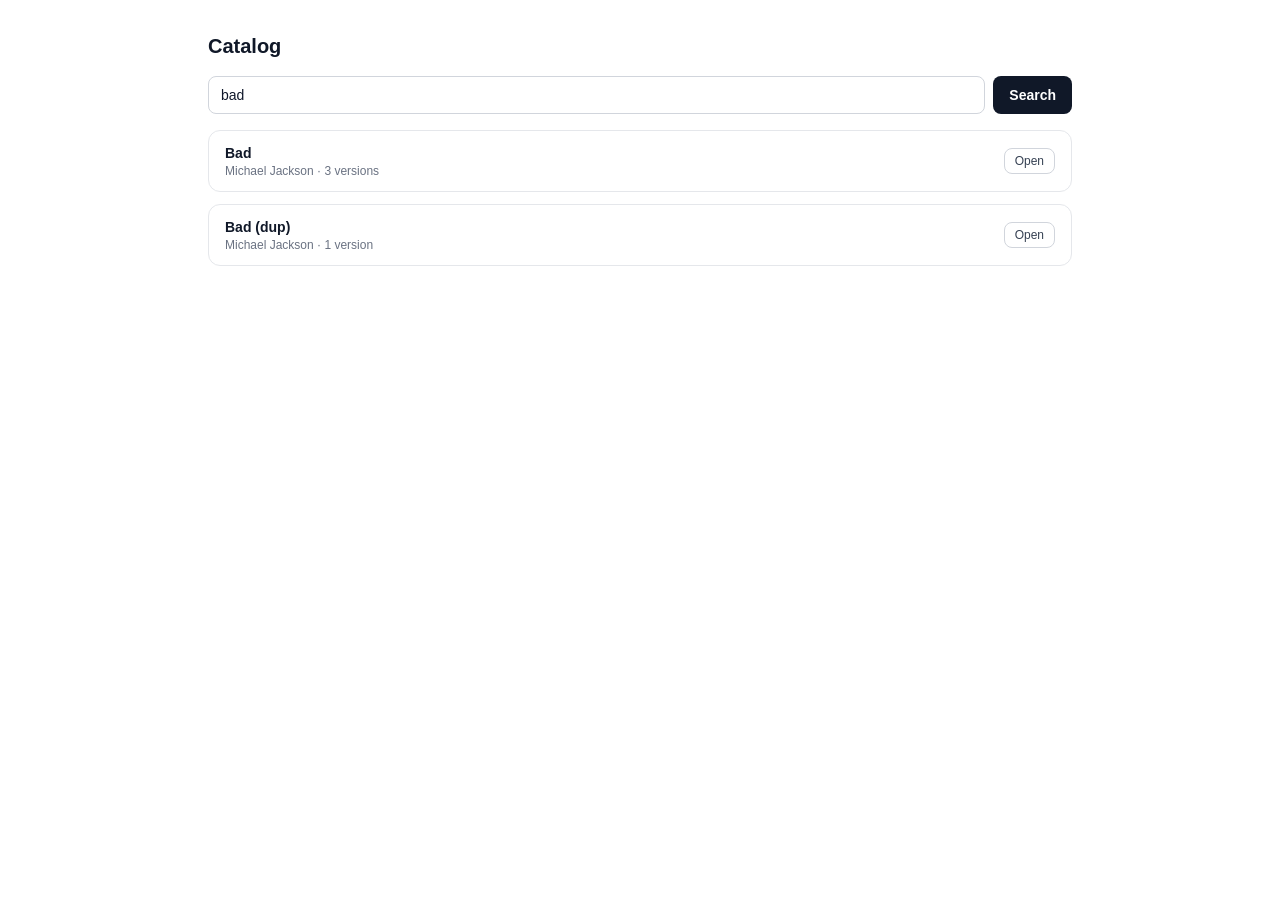
Scenario: delete › confirms with the zero counts, then deletes and refreshes
Click the button "Open" in the row of "versions": (1029, 161) [1004,148,1055,174]
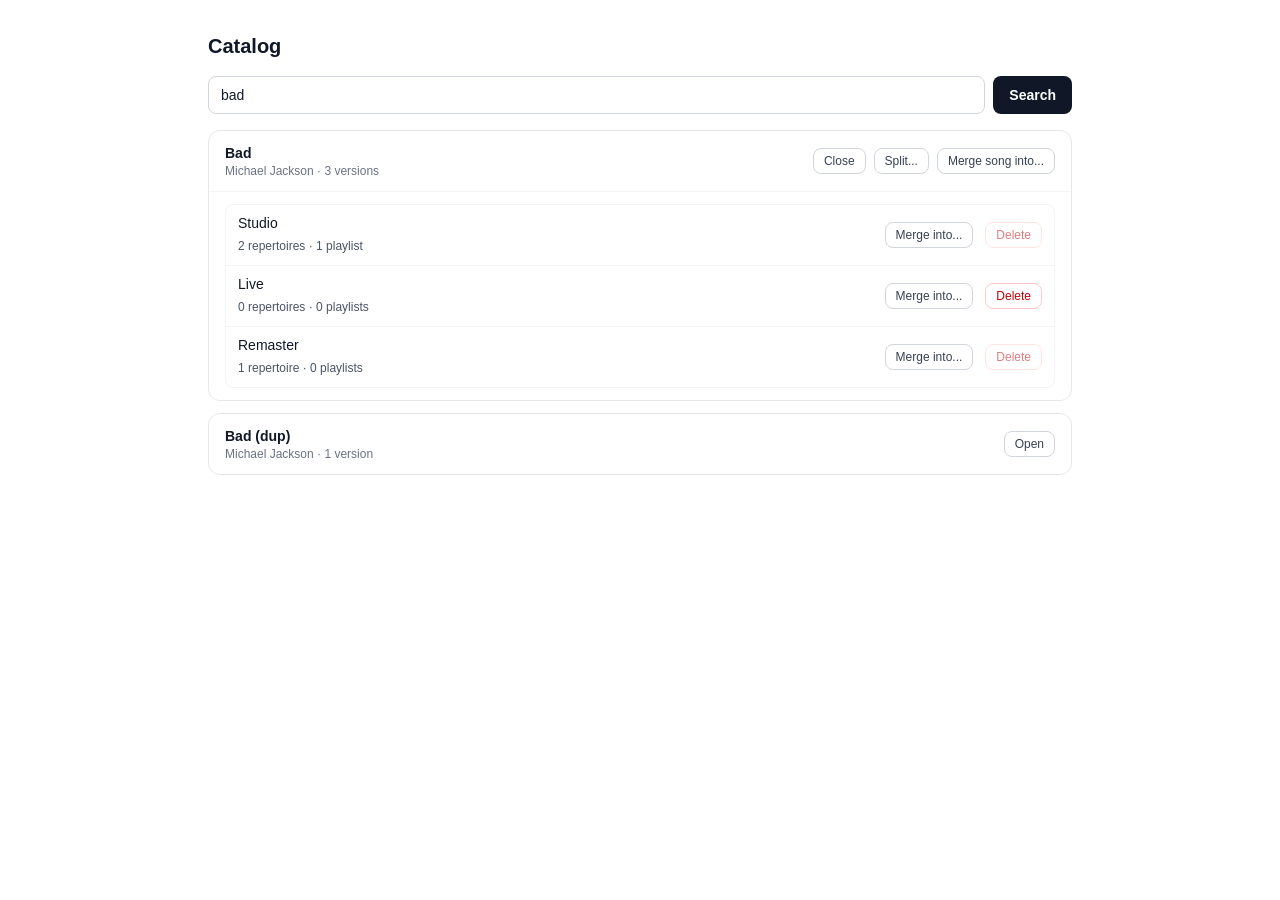
Click the button with aria-label "Delete Live": (1014, 296) [985,283,1042,309]
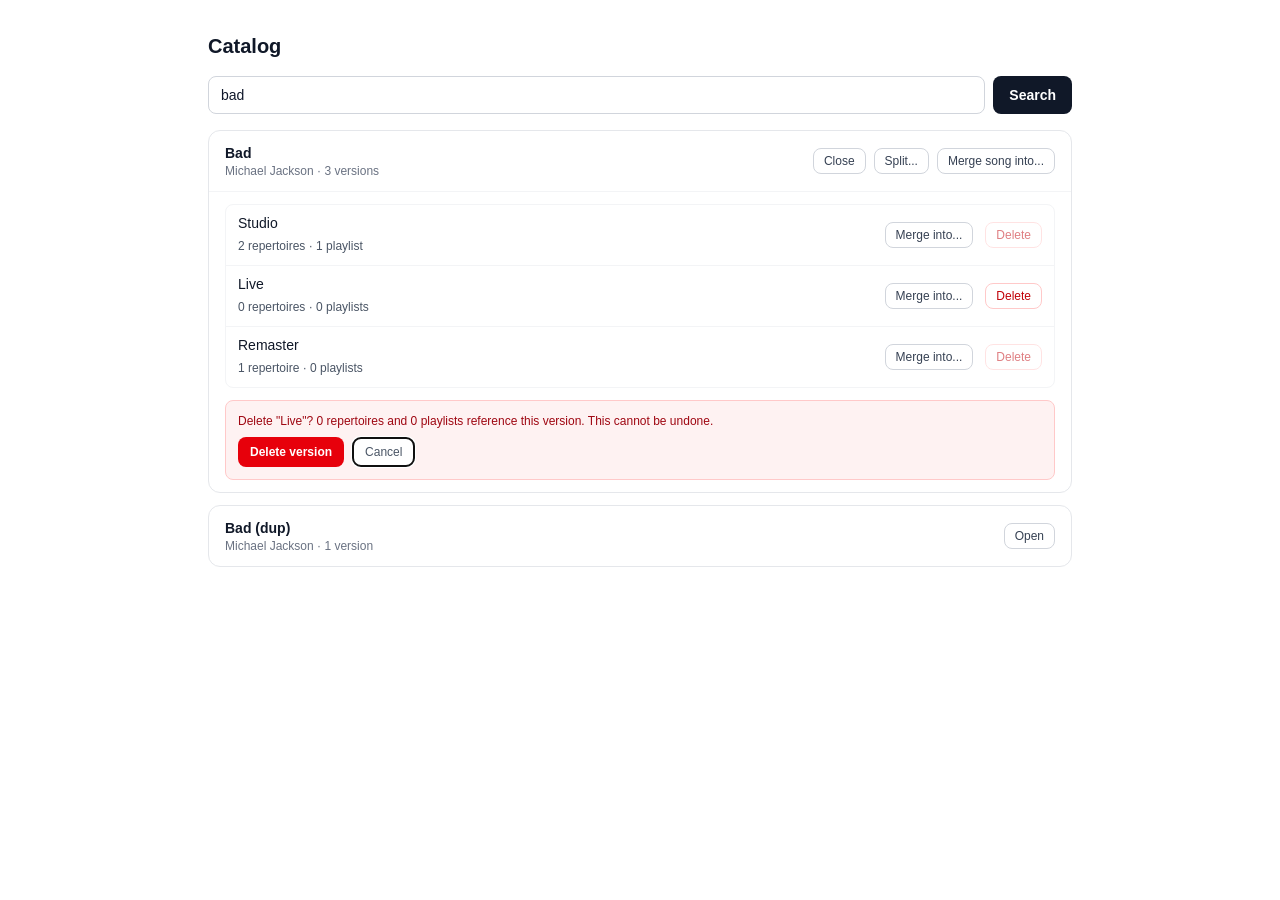
Expected: the dialog shows "0 repertoires and 0 playlists reference this version", [238,414,713,428]
Click the button "Delete version": (291, 452) [238,437,344,467]
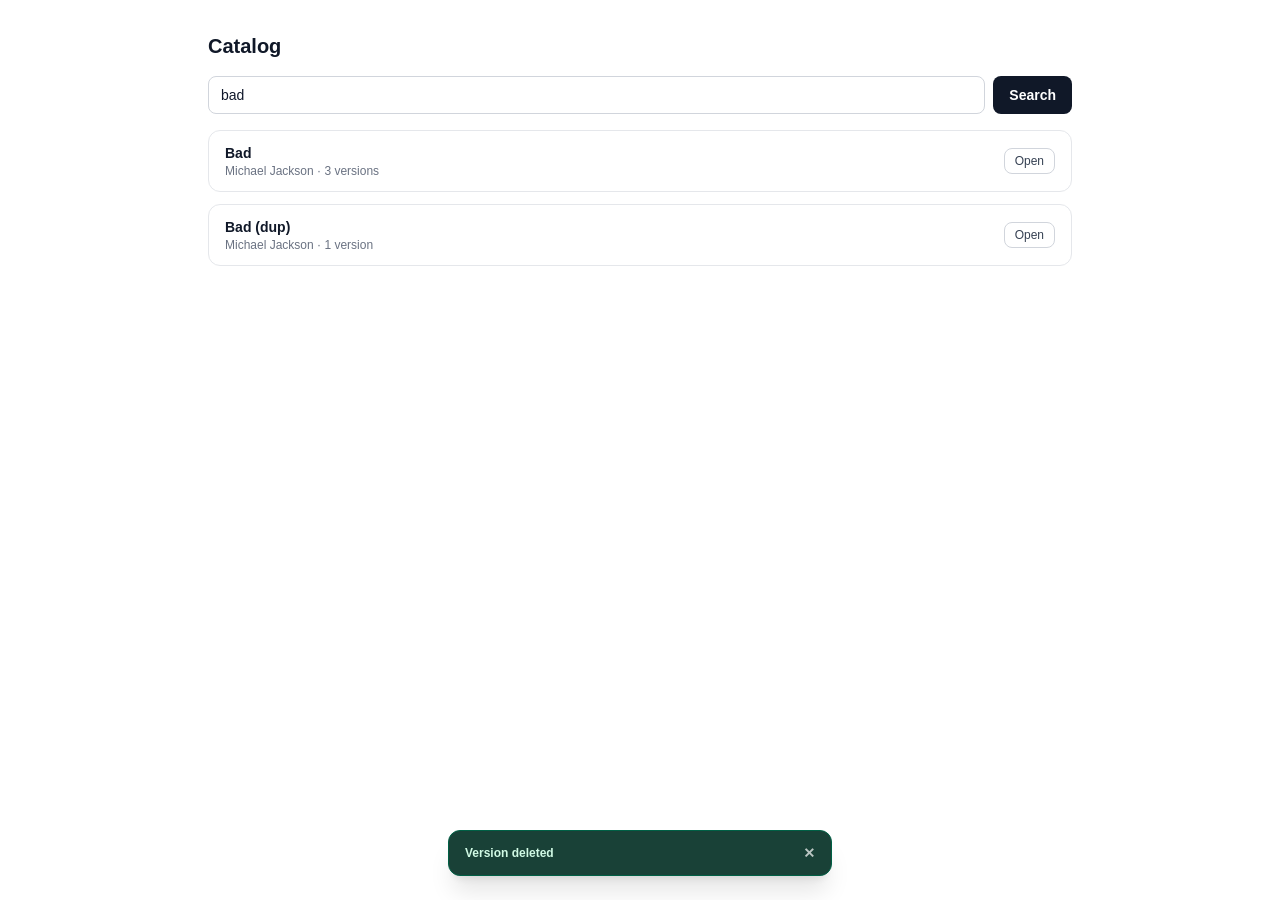
Expected: the dialog is gone
